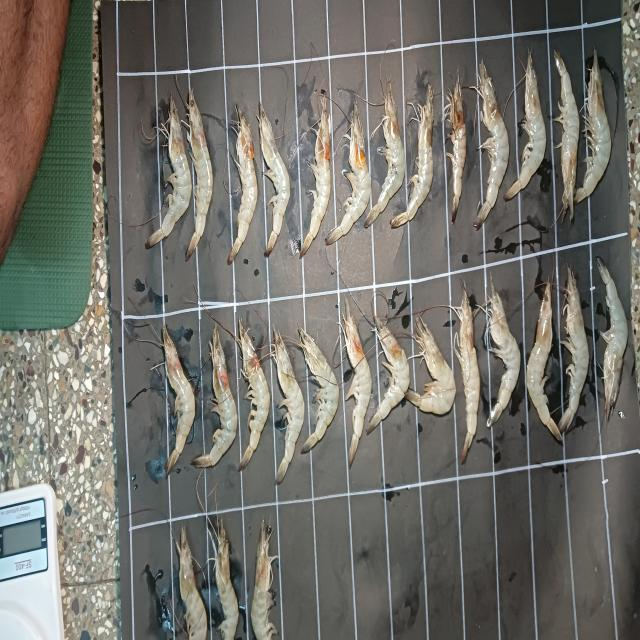shrimp: (555, 49, 611, 217), (145, 95, 191, 248), (325, 102, 371, 246), (191, 328, 238, 467), (390, 84, 434, 228), (504, 51, 546, 201), (364, 80, 406, 228), (474, 60, 509, 228), (526, 281, 562, 443), (299, 325, 339, 454), (596, 257, 628, 418), (405, 314, 456, 414), (300, 95, 331, 259), (452, 283, 480, 463), (366, 317, 409, 434), (559, 268, 589, 434), (486, 281, 520, 427), (258, 102, 290, 257), (162, 325, 195, 474), (342, 299, 371, 467), (274, 328, 305, 485), (239, 319, 270, 471), (228, 106, 258, 263), (185, 89, 212, 261), (555, 49, 579, 219), (176, 527, 208, 640), (444, 71, 466, 224), (251, 520, 278, 640), (215, 520, 239, 640)
